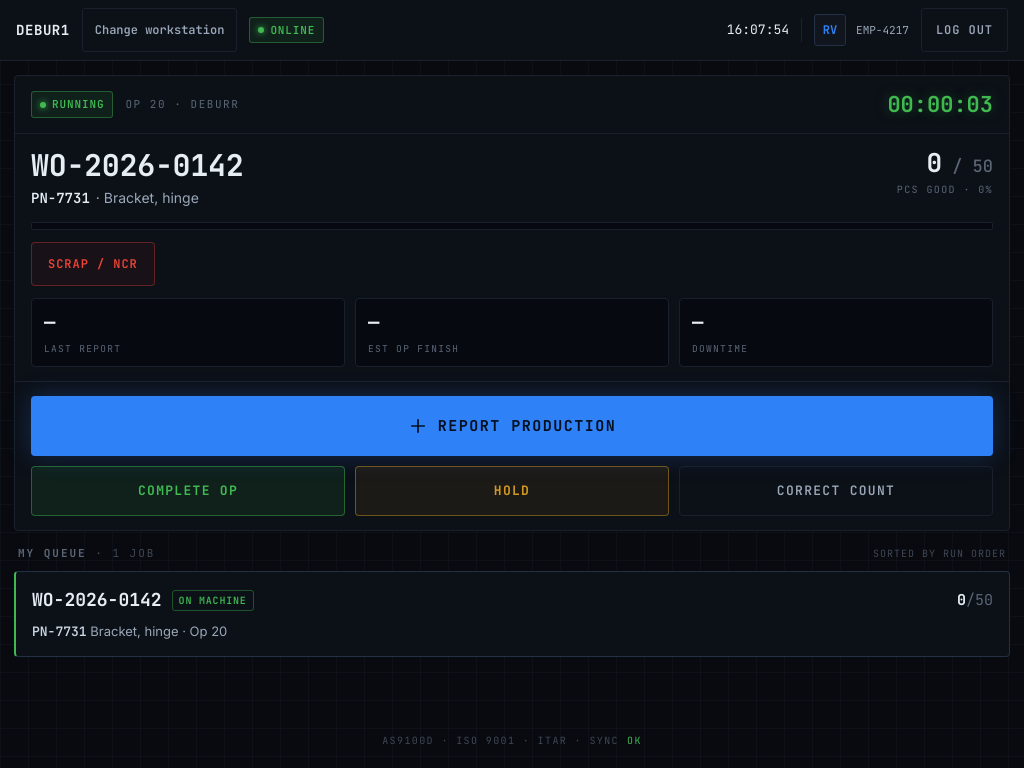
Scenario: operator kiosk workstation selection › hides workstation switching while a production form is open
The image size is (1024, 768).
Click the button "Report production". click: (512, 426)
box: left=31, top=396, right=993, bottom=456
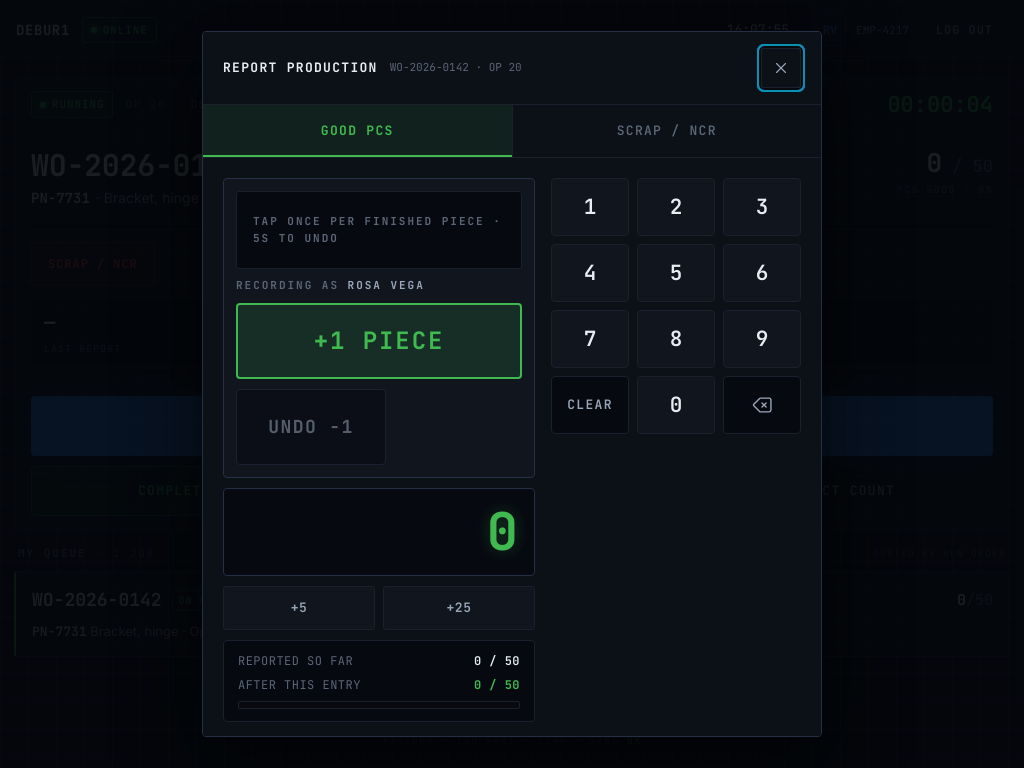
Expected: the button "Change workstation" is gone
